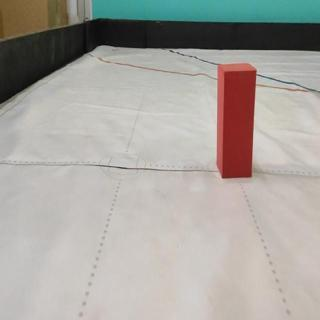redbox: (215, 62, 257, 178)
